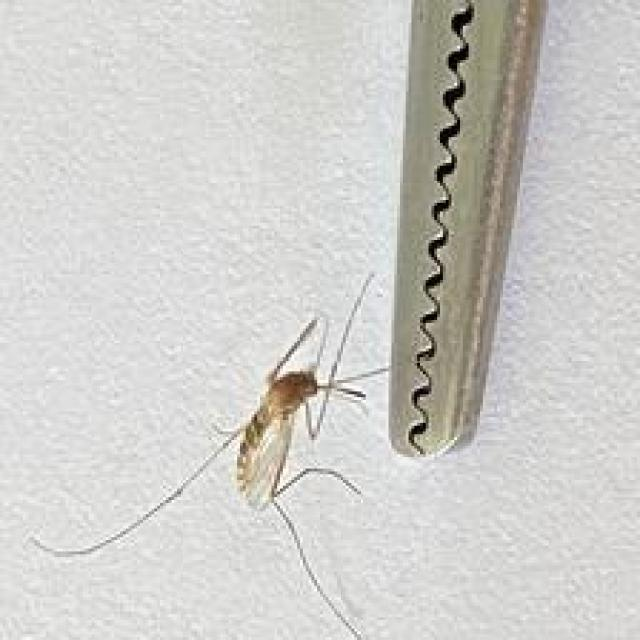Culex: (27, 271, 396, 640)
